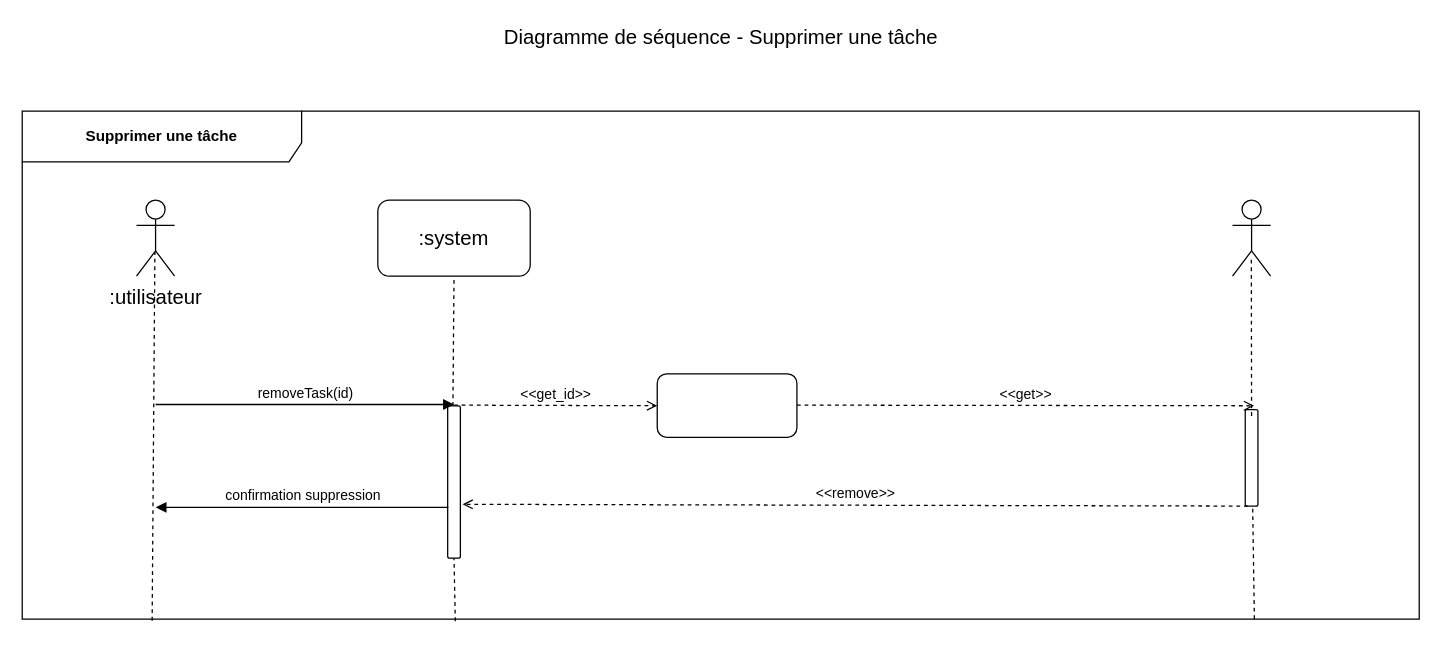
Some shapes in this 1441 by 645 pixel diagram are drawn without their labels. The shapes that lost their labels are listed below. From the top down, each one's centre as x and y in pixels, then its label:
At [1251,237]: ":bdd".
At [726,404]: "id_task".
